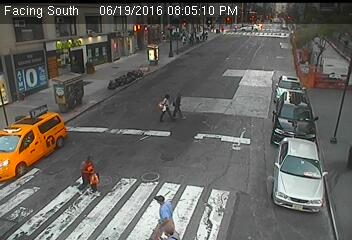neg: (281, 143, 303, 173), (149, 144, 170, 172), (224, 146, 242, 169), (311, 56, 327, 77), (237, 48, 253, 68), (99, 100, 114, 120), (288, 85, 302, 104), (71, 99, 85, 118), (292, 23, 306, 42), (121, 169, 135, 188), (67, 196, 81, 215), (250, 92, 264, 110), (99, 43, 112, 60), (48, 63, 61, 80), (268, 46, 281, 63), (203, 191, 216, 208), (184, 45, 196, 61), (50, 193, 60, 208), (222, 96, 232, 110)
pos: (68, 151, 103, 198), (150, 188, 175, 222), (170, 89, 193, 120), (151, 90, 173, 120)
